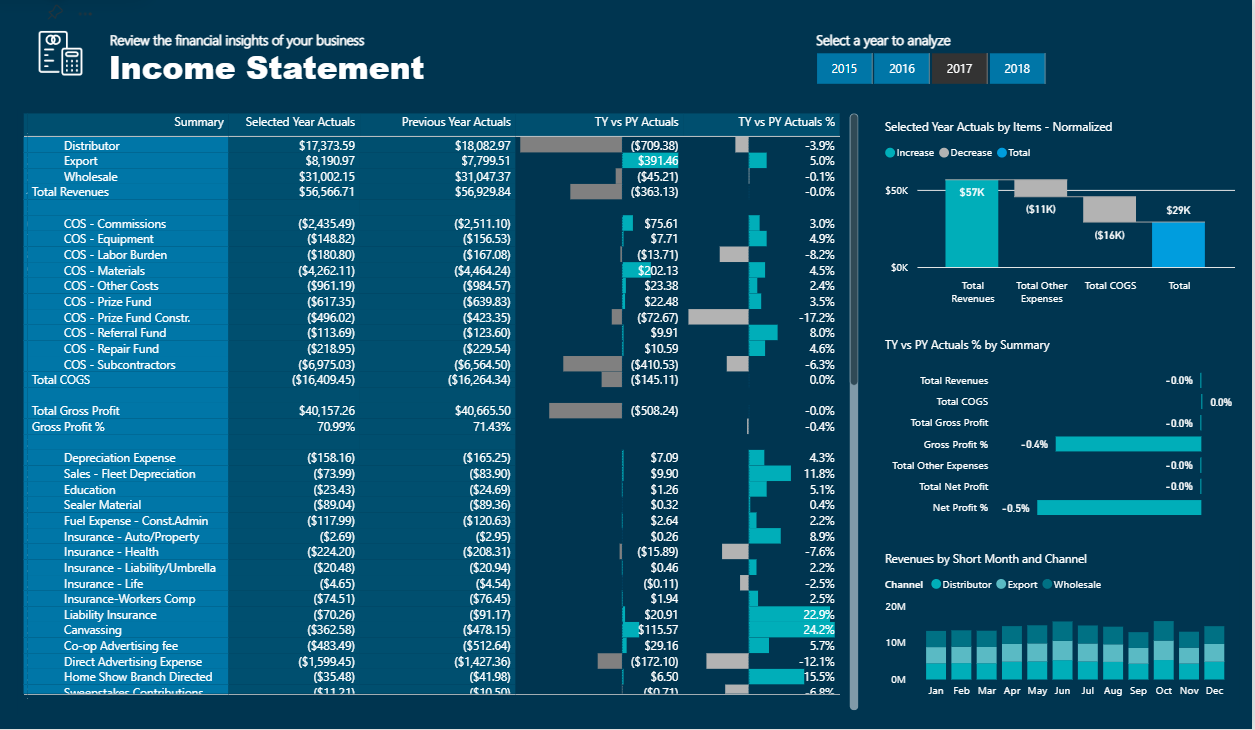

The dashboard page shown, as its layout file describes it:
{"tool":"powerbi","page":{"name":"Income Statement","canvas":[1280,720],"ordinal":1},"visuals":[{"type":"waterfallChart","fields":{"Category":["Income Statement Template.Items - Normalized"],"Y":["Annualized Analysis.Selected Year Actuals"]},"box":[900.3,95.4,368,198.3],"z":0},{"type":"columnChart","fields":{"Y":["Income Statement Analysis.Revenues"],"Category":["Dates.Short Month"],"Series":["Sales.Channel"]},"box":[900.3,536.6,368,160.1],"z":1000},{"type":"image","box":[18.5,0.9,88,55.6],"z":2000},{"type":"textbox","box":[829.3,0,202.2,34.4],"z":3000},{"type":"textbox","box":[107.6,0,291.5,34.4],"z":4000},{"type":"textbox","box":[105.9,15.1,348.1,59.5],"z":6000},{"type":"slicer","fields":{"Values":["Dates.Year"]},"box":[808.9,21.5,284,45.2],"z":8000},{"type":"tableEx","fields":{"Values":["Income Statement Template.Row Index","Income Statement Template.Summary","Income Statement Analysis.Selected Year Actuals","Annualized Analysis.Previous Year Actuals","Annualized Analysis.TY vs PY Actuals","Annualized Analysis.TY vs PY Actuals %"]},"box":[18,85.9,865.4,620.4],"z":9000},{"type":"barChart","fields":{"Y":["Annualized Analysis.TY vs PY Actuals %"],"Category":["Income Statement Template.Summary"]},"box":[900.3,318.1,368,197.2],"z":10000}]}

Visuals, with their boxes on the page's 1280x720 design canvas (x1, y1, x2, y2). These are canvas units, not pixel positions in the 1255x730 screenshot, which may show the page scaled, cropped or inside an application window:
waterfallChart - Income Statement Template.Items - Normalized x Annualized Analysis.Selected Year Actuals: 900:95:1268:294
columnChart - Income Statement Analysis.Revenues x Dates.Short Month: 900:537:1268:697
image: 18:1:106:56
textbox: 829:0:1032:34
textbox: 108:0:399:34
textbox: 106:15:454:75
slicer - Dates.Year: 809:22:1093:67
tableEx - Income Statement Template.Row Index x Income Statement Template.Summary: 18:86:883:706
barChart - Annualized Analysis.TY vs PY Actuals % x Income Statement Template.Summary: 900:318:1268:515
